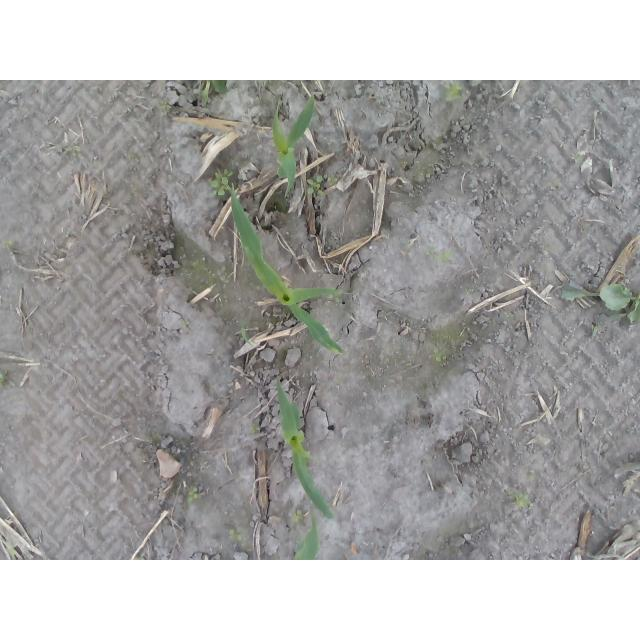Maize: (231, 185, 354, 356), (274, 377, 334, 520), (274, 93, 315, 199), (292, 515, 322, 558)
Weeds: (560, 284, 640, 325), (199, 81, 225, 108), (427, 245, 456, 266), (212, 171, 232, 198), (506, 489, 530, 509), (444, 81, 463, 101), (305, 176, 323, 196), (0, 371, 16, 388), (242, 325, 253, 348), (66, 144, 82, 159), (322, 173, 338, 187), (430, 349, 444, 364), (229, 529, 243, 542), (189, 488, 200, 503), (293, 511, 304, 524), (128, 186, 139, 198), (1, 240, 12, 249), (251, 427, 262, 436)
